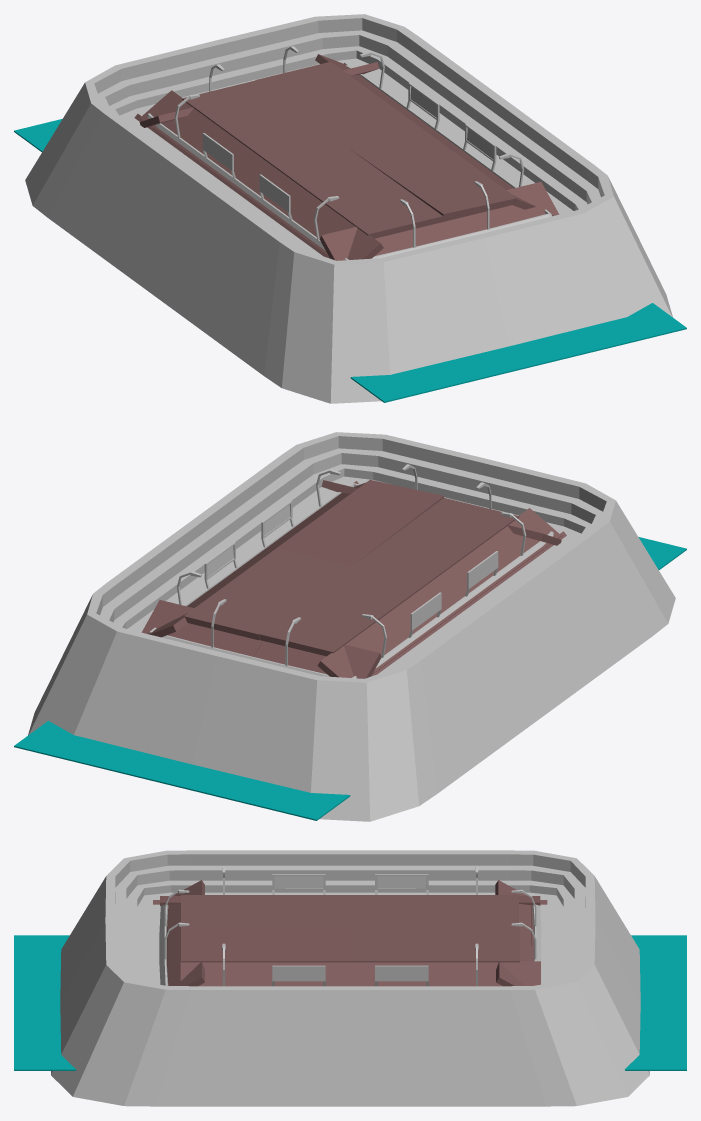
Rendered from escenario.obj.
3 views of the same model, one above another, from view 1: azimuth 30°, elevation 25°; view 2: azimuth 150°, elevation 25°; view 3: azimuth 270°, elevation 25° (orthographic). The views are drawn at different scales.
Visible parts, largest first — view 1: escenario__6_:pCube1, pCube3, group3 group1 polySurface29, group3 group1 polySurface44, group3 group1 polySurface11, group3 group1 polySurface52, group3 group1 polySurface21, group3 group1 polySurface34, group3 group1 polySurface55, group3 polySurface1 group1, group3 group1 polySurface7, group3 group1 pasted__polySurface7; view 2: escenario__6_:pCube1, pCube3, group3 group1 polySurface11, group3 group1 polySurface52, group3 group1 polySurface44, group3 group1 polySurface29, group3 group1 polySurface34, group3 group1 polySurface21, group3 group1 polySurface42, group3 group1 polySurface31, group3 group1 pasted__polySurface7, group3 group1 polySurface7; view 3: escenario__6_:pCube1, pCube3, group3 group1 polySurface44, group3 group1 polySurface11, group3 group1 polySurface52, group3 group1 polySurface29, group3 group1 polySurface7, group3 group1 pasted__polySurface7, group3 group1 polySurface55, group3 polySurface1 group1, group3 group1 polySurface31, group3 group1 polySurface42.
Boxes of the visible parts, x1,y1,x2,y2 form: escenario__6_:pCube1: (25,14,672,403); pCube3: (14,119,686,402); group3 group1 polySurface29: (274,148,443,238); group3 group1 polySurface44: (348,129,517,221); group3 group1 polySurface11: (256,61,422,147); group3 group1 polySurface52: (182,80,347,166); group3 group1 polySurface21: (140,90,274,194); group3 group1 polySurface34: (244,167,383,259); group3 group1 polySurface55: (438,182,559,238); group3 polySurface1 group1: (319,223,448,260); group3 group1 polySurface7: (417,124,535,209); group3 group1 pasted__polySurface7: (315,54,436,131); escenario__6_:pCube1: (28,432,675,821); pCube3: (14,537,686,820); group3 group1 polySurface11: (183,548,351,640); group3 group1 polySurface52: (259,567,425,656); group3 group1 polySurface44: (276,479,443,566); group3 group1 polySurface29: (352,498,519,585); group3 group1 polySurface34: (427,508,561,611); group3 group1 polySurface21: (317,585,457,677); group3 group1 polySurface42: (141,600,262,656); group3 group1 polySurface31: (254,641,381,678); group3 group1 pasted__polySurface7: (147,559,260,637); group3 group1 polySurface7: (241,482,365,566); escenario__6_:pCube1: (51,850,649,1106); pCube3: (14,935,686,1070); group3 group1 polySurface44: (181,927,351,962); group3 group1 polySurface11: (349,928,519,962); group3 group1 polySurface52: (348,895,518,928); group3 group1 polySurface29: (181,895,351,927); group3 group1 polySurface7: (180,961,371,986); group3 group1 pasted__polySurface7: (350,961,540,986); group3 group1 polySurface55: (168,939,204,986); group3 polySurface1 group1: (168,880,204,945); group3 group1 polySurface31: (495,880,531,945); group3 group1 polySurface42: (496,939,532,986).
Bounding box in the file's own units: 305 × 94.62 × 506.
